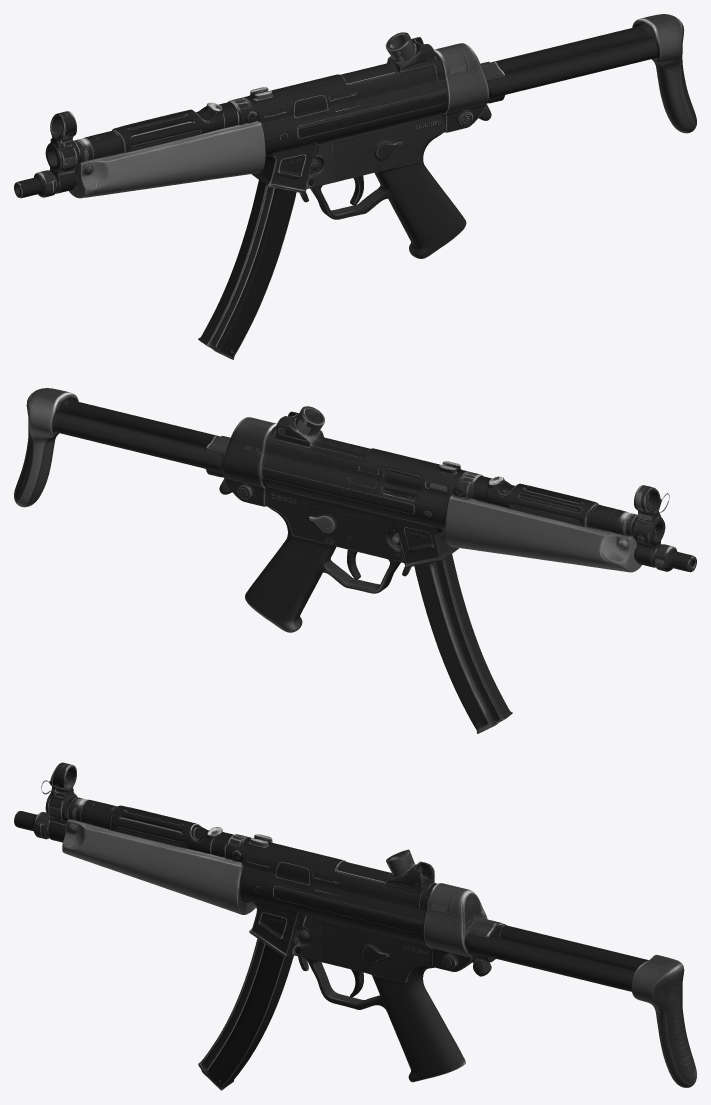
Rendered from Meshy_AI_mp5_1012115747_texture.glb.
3 renders of one model, top to bottom at view 1: azimuth 30°, elevation 25°; view 2: azimuth 150°, elevation 25°; view 3: azimuth 330°, elevation 25°, orthographic.
Visible parts, largest first — view 1: mesh_node; view 2: mesh_node; view 3: mesh_node.
Boxes of the visible parts, x1,y1,x2,y2 form: mesh_node: (14, 14, 696, 359); mesh_node: (14, 388, 696, 733); mesh_node: (14, 762, 696, 1090).
Size of the model in its own units: 1.9 by 0.7552 by 0.1401.
Materials: 1 (1 with a texture image).
